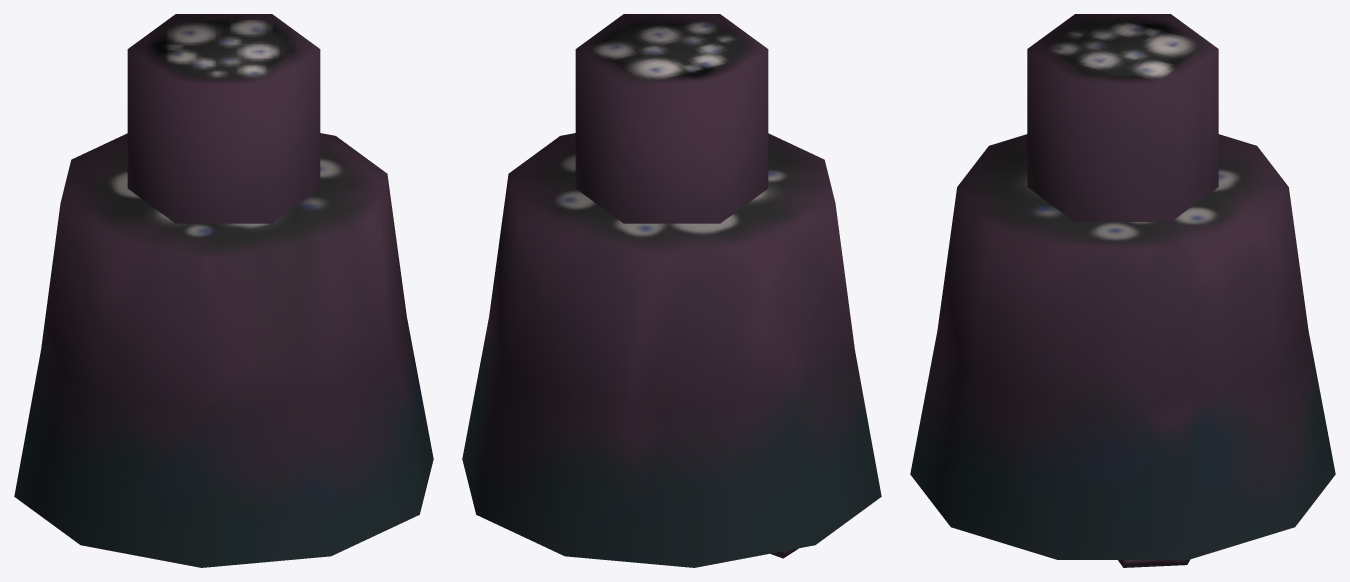
File: 통나무_Prop_Log_.fbx
The picture shows the model from 3 angles, left to right: view 1: azimuth 30°, elevation 25°; view 2: azimuth 150°, elevation 25°; view 3: azimuth 270°, elevation 25°; orthographic projection.
Parts seen in each view (by area): view 1: Prop_Log_04, Prop_Log_03; view 2: Prop_Log_04, Prop_Log_03; view 3: Prop_Log_04, Prop_Log_03.
Part boxes in pixels (x1=…): Prop_Log_04: x1=14, y1=133, x2=433, y2=567; Prop_Log_03: x1=127, y1=14, x2=320, y2=223; Prop_Log_04: x1=462, y1=133, x2=881, y2=567; Prop_Log_03: x1=575, y1=14, x2=768, y2=223; Prop_Log_04: x1=910, y1=134, x2=1335, y2=559; Prop_Log_03: x1=1027, y1=14, x2=1218, y2=221.
Bounding box in the file's own units: 3.02 × 3.72 × 3.17.
